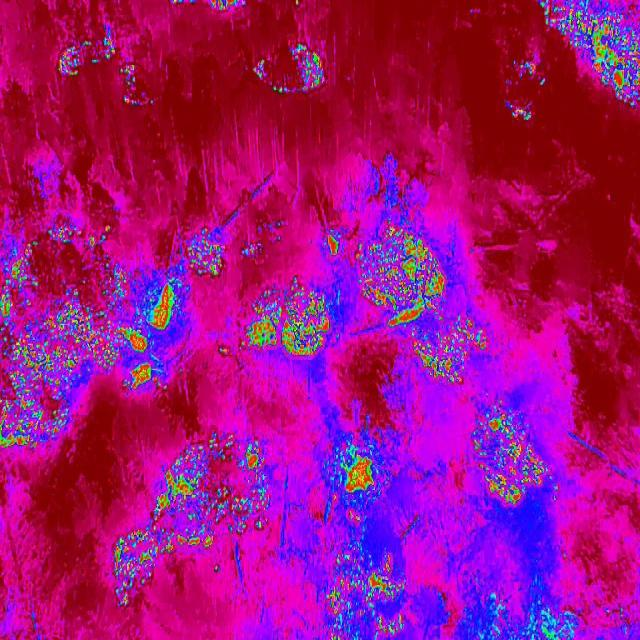fire: (0, 218, 81, 444), (81, 260, 190, 392), (158, 432, 270, 550), (238, 280, 350, 374), (358, 218, 448, 324), (468, 402, 550, 506), (317, 551, 412, 640), (314, 429, 395, 523), (410, 306, 490, 392), (110, 528, 159, 608), (537, 0, 640, 31), (563, 31, 640, 71), (587, 71, 640, 109), (188, 232, 228, 277), (323, 228, 347, 258)
